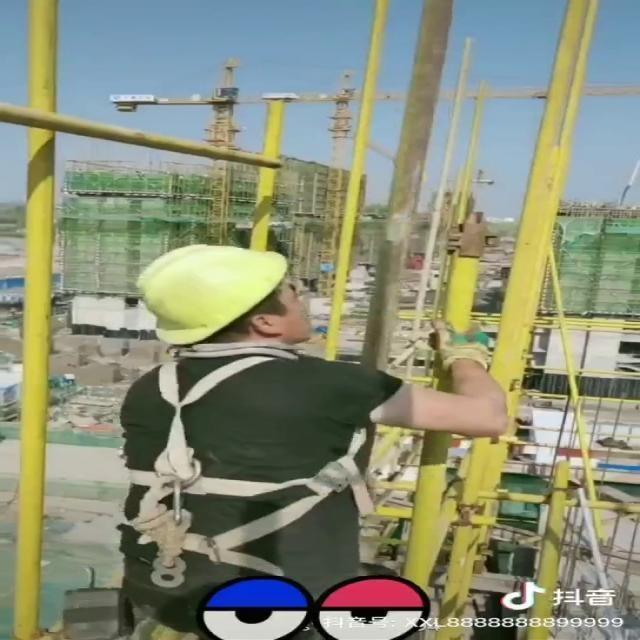Arnes_seguridad: (104, 343, 391, 579)
